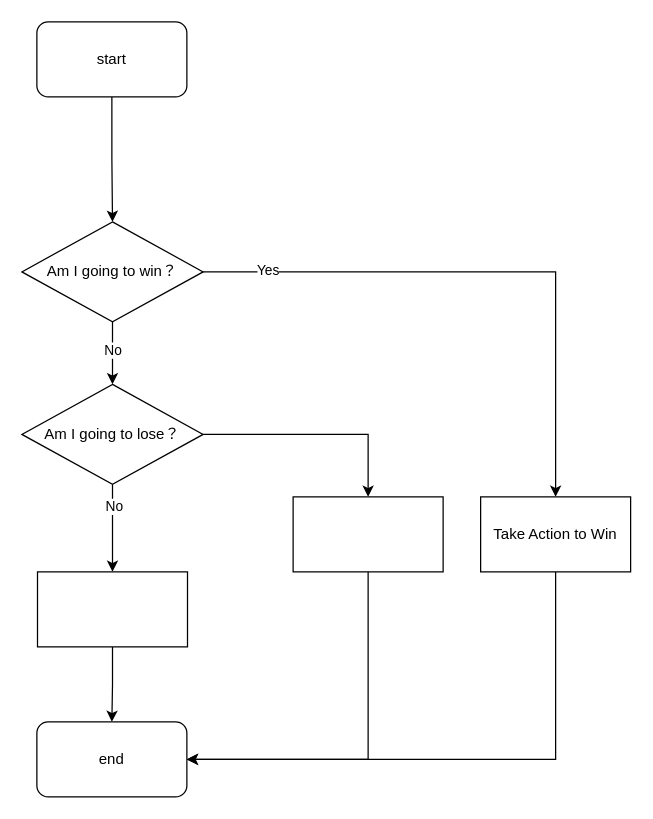
Some shapes in this 653 by 819 pixel diagram are drawn without their labels. Each missing label, with the box of its shape:
Take Action not to lose: (292, 496, 443, 572)
Take legal action, (center, corder or other): (36, 571, 188, 647)
